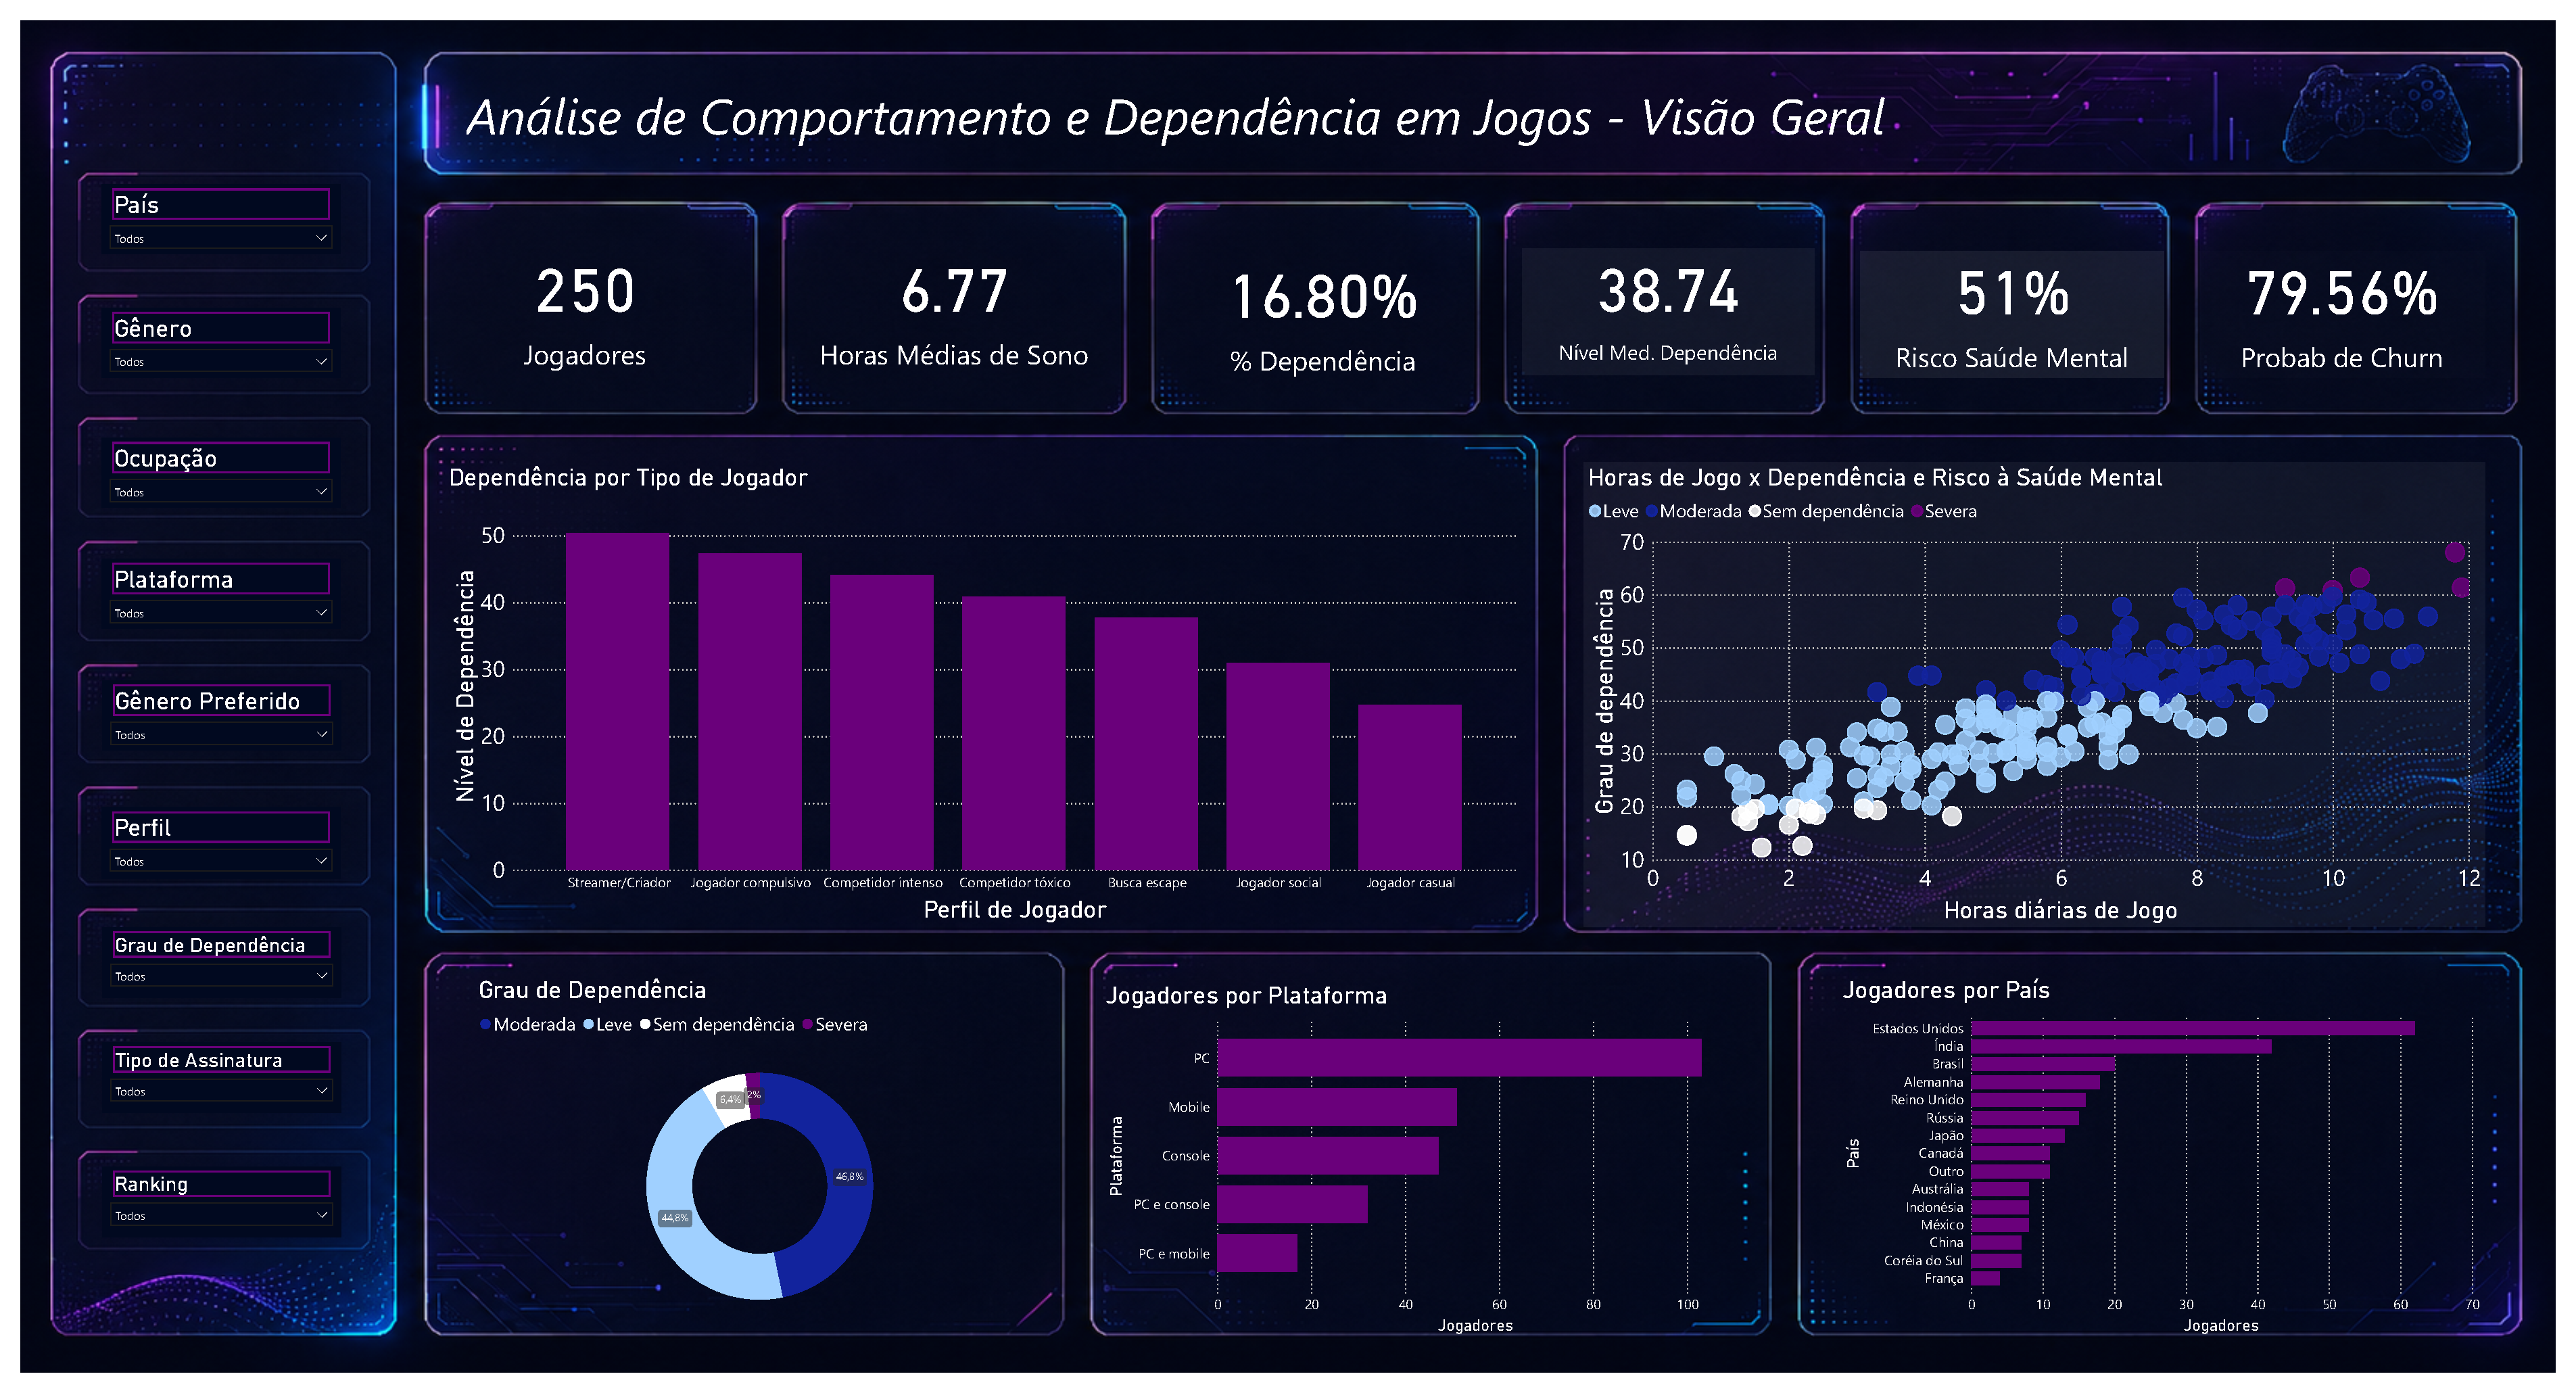

What the dashboard file says about the page in this screenshot:
{"tool":"powerbi","page":{"name":"Visão Geral","canvas":[3000,1600],"ordinal":0},"visuals":[{"type":"advanceCardE03760C5AB684758B56AA29F9E6C257B","fields":{"mainMeasure":["Medidas.Total Jogadores"]},"box":[536.7,250,263.3,190],"z":0},{"type":"advanceCardE03760C5AB684758B56AA29F9E6C257B","fields":{"mainMeasure":["Medidas.Horas Médias de Sono"]},"box":[930,250,350,190],"z":1000},{"type":"advanceCardE03760C5AB684758B56AA29F9E6C257B","fields":{"mainMeasure":["Medidas.Taxa de Dependência"]},"box":[1360,276.7,363.3,150],"z":2000},{"type":"advanceCardE03760C5AB684758B56AA29F9E6C257B","fields":{"mainMeasure":["Medidas.Score Médio de Dependência"]},"box":[1776.7,270,346.7,150],"z":3000},{"type":"advanceCardE03760C5AB684758B56AA29F9E6C257B","fields":{"mainMeasure":["Medidas.Risco Médio de Saúde Mental"]},"box":[2176.7,273.3,360,150],"z":4000},{"type":"advanceCardE03760C5AB684758B56AA29F9E6C257B","fields":{"mainMeasure":["Medidas.Probabilidade Média de Churn"]},"box":[2576.7,273.3,340,150],"z":5000},{"type":"donutChart","title":"Grau de Dependência","fields":{"Category":["Dados.severidade_dependencia"],"Y":["Medidas.Total Jogadores"]},"box":[537.3,1130.4,675.3,428.7],"z":6000},{"type":"columnChart","title":"Dependência por Tipo de Jogador","fields":{"Category":["Dados.cluster_comportamental"],"Y":["Medidas.Score Médio de Dependência"]},"box":[502.1,522.6,1274.2,549],"z":7000},{"type":"scatterChart","title":"Horas de Jogo x Dependência e Risco à Saúde Mental","fields":{"X":["Dados.horas_jogo_diarias"],"Y":["Dados.score_dependencia"],"Series":["Dados.severidade_dependencia"],"Size":["CountNonNull(Dados.score_risco_saude_mental)"]},"box":[1850,523.3,1066.7,550],"z":8000},{"type":"barChart","title":"Jogadores por Plataforma","fields":{"Y":["Medidas.Total Jogadores"],"Category":["Dados.plataforma"]},"box":[1280.1,1136.2,766.3,422.8],"z":9000},{"type":"barChart","title":"Jogadores por País","fields":{"Y":["Medidas.Total Jogadores"],"Category":["Dados.pais"]},"box":[2152.1,1130.4,763.4,428.7],"z":10000},{"type":"textbox","box":[523.3,66.7,2013.3,103.3],"z":11000},{"type":"slicer","title":"País","fields":{"Values":["Dados.pais"]},"box":[95.7,194.3,282.9,82.9],"z":11001},{"type":"slicer","title":"País","fields":{"Values":["Dados.genero"]},"box":[95.7,340,282.9,82.9],"z":11002},{"type":"slicer","title":"País","fields":{"Values":["Dados.ocupacao"]},"box":[95.7,494.3,282.9,82.9],"z":11003},{"type":"slicer","title":"País","fields":{"Values":["Dados.genero_preferido"]},"box":[97.1,781.4,282.9,82.9],"z":11004},{"type":"slicer","title":"País","fields":{"Values":["Dados.plataforma"]},"box":[95.7,637.1,282.9,82.9],"z":11005},{"type":"slicer","title":"País","fields":{"Values":["Dados.cluster_comportamental"]},"box":[95.7,931.4,282.9,84.3],"z":11006},{"type":"slicer","title":"País","fields":{"Values":["Dados.severidade_dependencia"]},"box":[97.1,1072.9,282.9,84.3],"z":11007},{"type":"slicer","title":"País","fields":{"Values":["Dados.status_assinatura"]},"box":[97.1,1208.6,282.9,84.3],"z":11008},{"type":"slicer","title":"País","fields":{"Values":["Dados.nivel_ranqueado"]},"box":[97.1,1355.7,282.9,84.3],"z":11009}]}

Visuals, with their boxes in screenshot pixels (x1, y1, x2, y2), scaled from the page's 3000x1600 canvas onto the 2576x1393 screenshot:
advanceCardE03760C5AB684758B56AA29F9E6C257B - Medidas.Total Jogadores: rect(461, 218, 687, 383)
advanceCardE03760C5AB684758B56AA29F9E6C257B - Medidas.Horas Médias de Sono: rect(798, 218, 1099, 383)
advanceCardE03760C5AB684758B56AA29F9E6C257B - Medidas.Taxa de Dependência: rect(1168, 241, 1480, 371)
advanceCardE03760C5AB684758B56AA29F9E6C257B - Medidas.Score Médio de Dependência: rect(1525, 235, 1823, 366)
advanceCardE03760C5AB684758B56AA29F9E6C257B - Medidas.Risco Médio de Saúde Mental: rect(1869, 238, 2178, 369)
advanceCardE03760C5AB684758B56AA29F9E6C257B - Medidas.Probabilidade Média de Churn: rect(2212, 238, 2504, 369)
"Grau de Dependência" donutChart: rect(461, 984, 1041, 1357)
"Dependência por Tipo de Jogador" columnChart: rect(431, 455, 1525, 933)
"Horas de Jogo x Dependência e Risco à Saúde Mental" scatterChart: rect(1589, 456, 2504, 935)
"Jogadores por Plataforma" barChart: rect(1099, 989, 1757, 1357)
"Jogadores por País" barChart: rect(1848, 984, 2504, 1357)
textbox: rect(450, 58, 2178, 148)
"País" slicer: rect(82, 169, 325, 241)
"País" slicer: rect(82, 296, 325, 368)
"País" slicer: rect(82, 430, 325, 502)
"País" slicer: rect(83, 680, 327, 753)
"País" slicer: rect(82, 554, 325, 627)
"País" slicer: rect(82, 811, 325, 884)
"País" slicer: rect(83, 934, 327, 1008)
"País" slicer: rect(83, 1052, 327, 1126)
"País" slicer: rect(83, 1180, 327, 1254)
